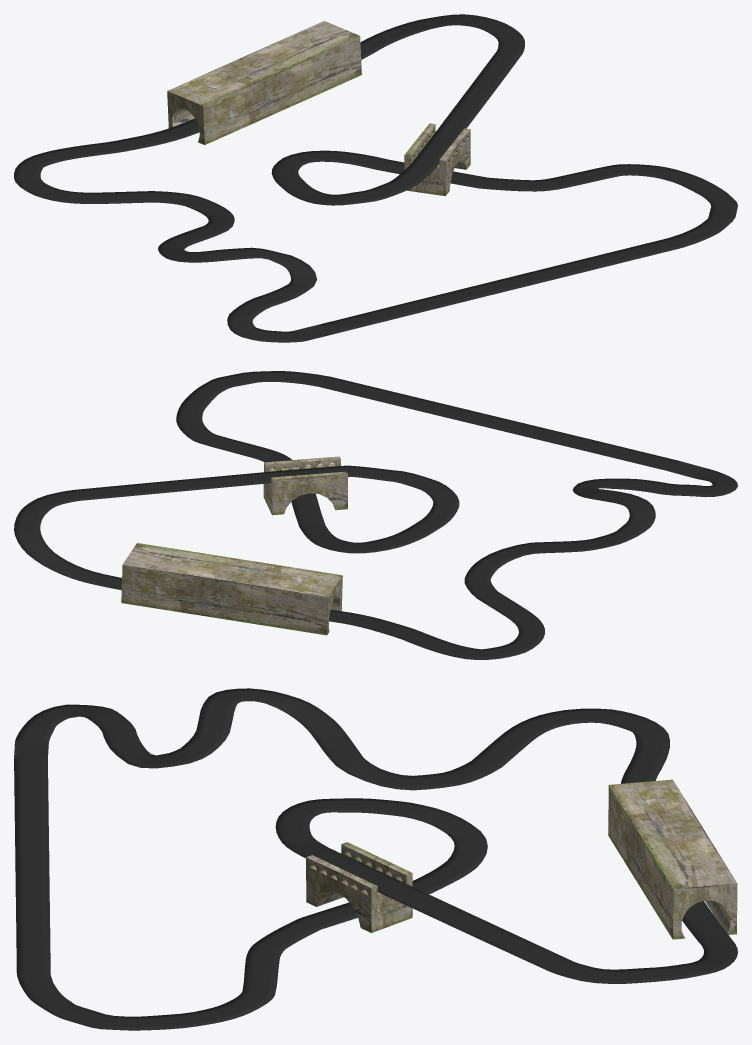
File: ForestCircuit_street.FBX
3 renders of one model, top to bottom at view 1: azimuth 30°, elevation 25°; view 2: azimuth 150°, elevation 25°; view 3: azimuth 270°, elevation 25°, orthographic. The views are drawn at different scales.
Visible parts, largest first — view 1: Street, Cylinder001, Bridge; view 2: Street, Cylinder001, Bridge; view 3: Street, Cylinder001, Bridge.
Part boxes in pixels (x1,y1,x2,y2): Street: (14, 14, 737, 342); Cylinder001: (167, 21, 361, 144); Bridge: (404, 123, 470, 196); Street: (14, 371, 737, 659); Cylinder001: (121, 543, 342, 635); Bridge: (263, 456, 347, 515); Street: (14, 688, 737, 1030); Cylinder001: (608, 779, 737, 939); Bridge: (306, 842, 412, 932).
Bounding box in the file's own units: 139078 × 11982 × 131731.
